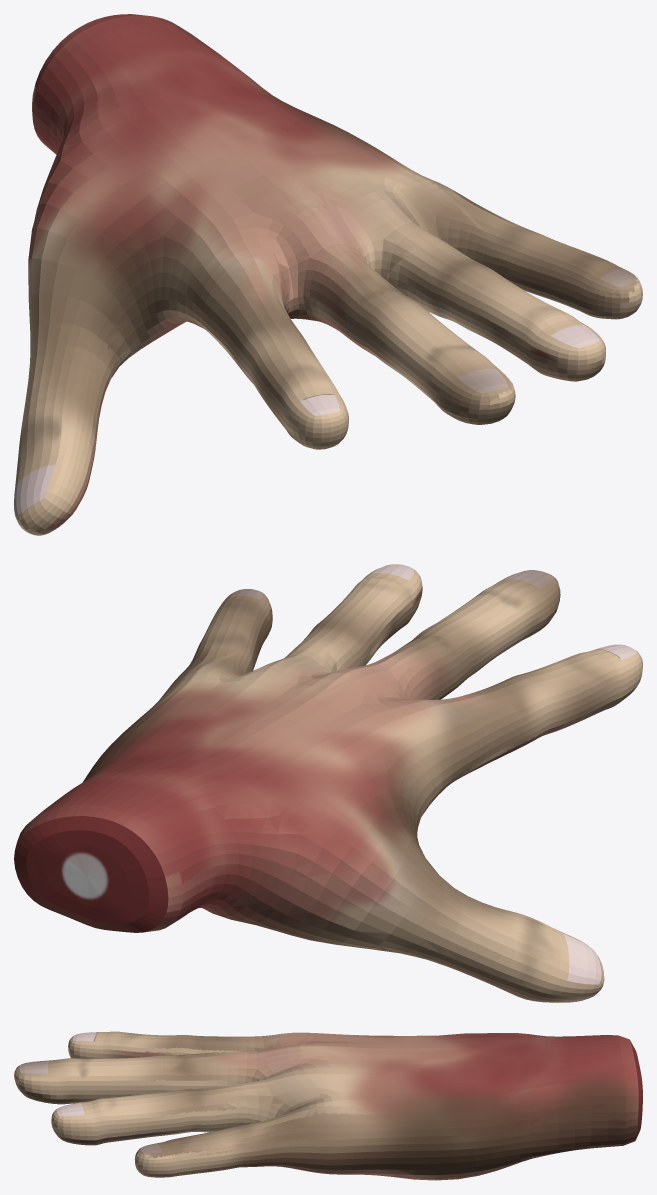
File: hand (1).fbx
The picture shows the model from 3 angles, top to bottom: view 1: azimuth 30°, elevation 25°; view 2: azimuth 150°, elevation 25°; view 3: azimuth 270°, elevation 25°; orthographic projection. The views are drawn at different scales.
Visible parts, largest first — view 1: hand; view 2: hand; view 3: hand.
Part boxes in pixels (left/top/right/bottom): hand: left=14, top=14, right=642, bottom=535; hand: left=14, top=564, right=642, bottom=1002; hand: left=14, top=1031, right=642, bottom=1180.
Bounding box in the file's own units: 1.7 × 0.929 × 2.57.
Materials: 1 (1 with a texture image).
